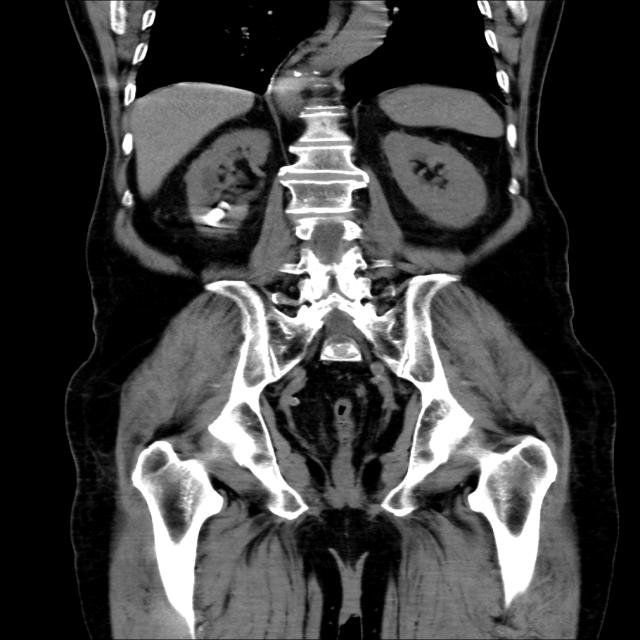kidneystone: (204, 201, 231, 226)
